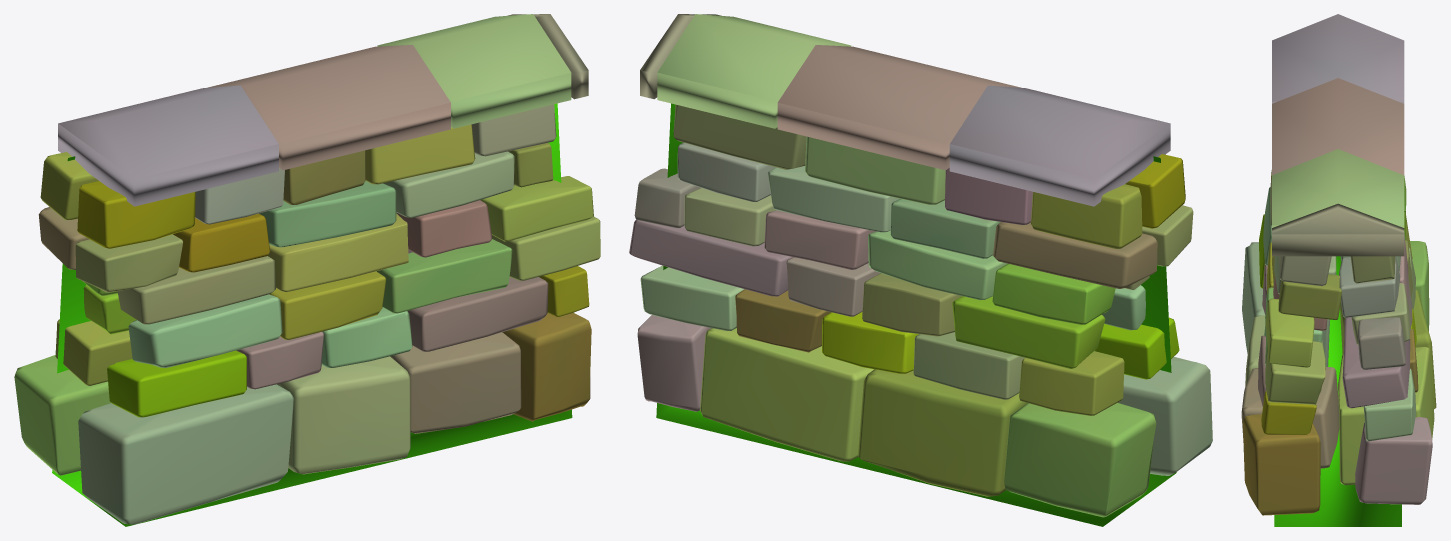
Rendered from SM_Prop_wall_stone_23.glb.
3 renders of one model, left to right at view 1: azimuth 30°, elevation 25°; view 2: azimuth 150°, elevation 25°; view 3: azimuth 270°, elevation 25°, orthographic. The views are drawn at different scales.
Visible parts, largest first — view 1: SM_Prop_wall_stone_23; view 2: SM_Prop_wall_stone_23; view 3: SM_Prop_wall_stone_23.
Part boxes in pixels (bbox=[...]): SM_Prop_wall_stone_23: bbox=[14, 14, 600, 526]; SM_Prop_wall_stone_23: bbox=[629, 14, 1212, 526]; SM_Prop_wall_stone_23: bbox=[1241, 14, 1436, 526].
Size of the model in its own units: 2.21 by 1.58 by 0.8552.
